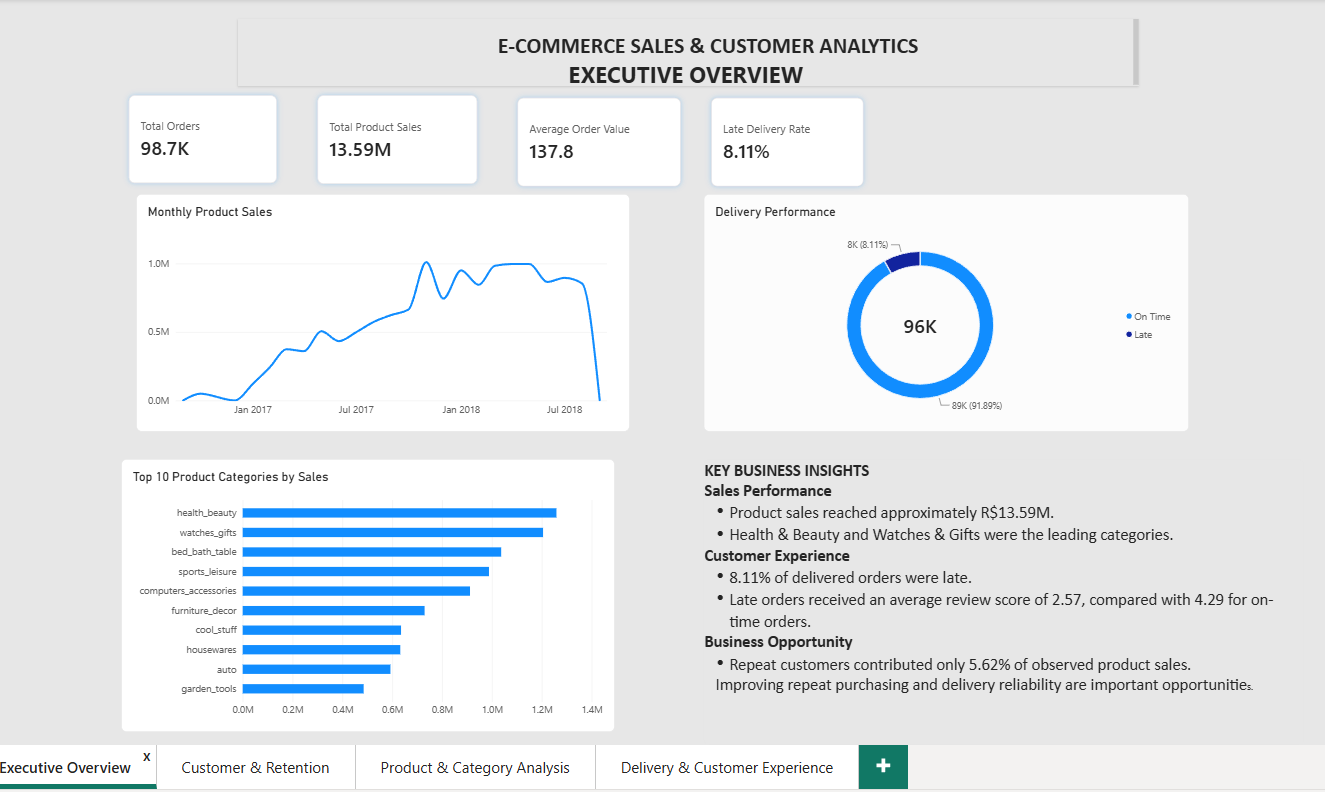

Layout of this report page (visuals, bound fields, positions):
{"tool":"powerbi","page":{"name":"Executive Overview","canvas":[1920,1080],"ordinal":0},"visuals":[{"type":"cardVisual","fields":{"Data":["public vw_monthly_sales.Total Orders"]},"box":[175.3,128.3,236.6,149.3],"z":0},{"type":"cardVisual","fields":{"Data":["public vw_category_performance.Total Product Sales"]},"box":[448.8,128.5,253.2,150.3],"z":1000},{"type":"cardVisual","fields":{"Data":["public vw_monthly_sales.Average Order Value"]},"box":[738.3,132.1,258,150],"z":2000},{"type":"cardVisual","fields":{"Data":["public vw_category_performance.Customers With Sales"]},"box":[1018.8,132.1,242,150],"z":3000},{"type":"lineChart","title":"Monthly Product Sales","fields":{"Category":["public vw_monthly_sales.sales_month"],"Y":["public vw_category_performance.Total Product Sales"]},"box":[197.3,282.3,714.2,343.7],"z":4000},{"type":"clusteredBarChart","title":"Top 10 Product Categories by Sales","fields":{"Category":["public vw_category_performance.category"],"Y":["public vw_category_performance.Category Product Sales"]},"box":[176,666,714.2,395.2],"z":5000},{"type":"donutChart","title":"Delivery Performance","fields":{"Category":["public vw_delivery_performance.New Delivery Status"],"Y":["public vw_monthly_sales.Delivery Orders"]},"box":[1018.8,282.3,702,344],"z":6000},{"type":"textbox","box":[343.8,29,1304.8,97.7],"z":7000},{"type":"textbox","box":[1018.8,666,868.6,414.4],"z":8000}]}

Visuals, with their boxes on the page's 1920x1080 design canvas (x1, y1, x2, y2). These are canvas units, not pixel positions in the 1325x792 screenshot, which may show the page scaled, cropped or inside an application window:
cardVisual - public vw_monthly_sales.Total Orders: [175,128,412,278]
cardVisual - public vw_category_performance.Total Product Sales: [449,128,702,279]
cardVisual - public vw_monthly_sales.Average Order Value: [738,132,996,282]
cardVisual - public vw_category_performance.Customers With Sales: [1019,132,1261,282]
"Monthly Product Sales" lineChart: [197,282,912,626]
"Top 10 Product Categories by Sales" clusteredBarChart: [176,666,890,1061]
"Delivery Performance" donutChart: [1019,282,1721,626]
textbox: [344,29,1649,127]
textbox: [1019,666,1887,1080]
